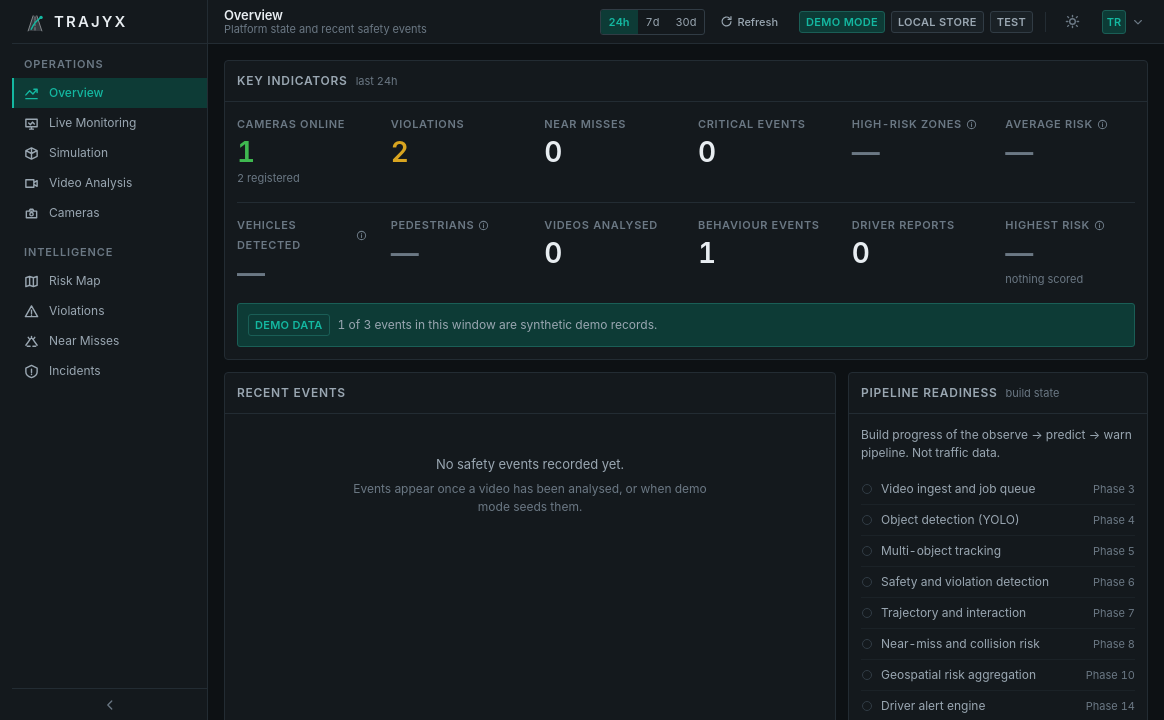
Test: profile menu › shows the signed-in identity and role
Step 1. Click the button with aria-label "account menu" → coordinates (1123, 22), box [1098, 8, 1148, 36]
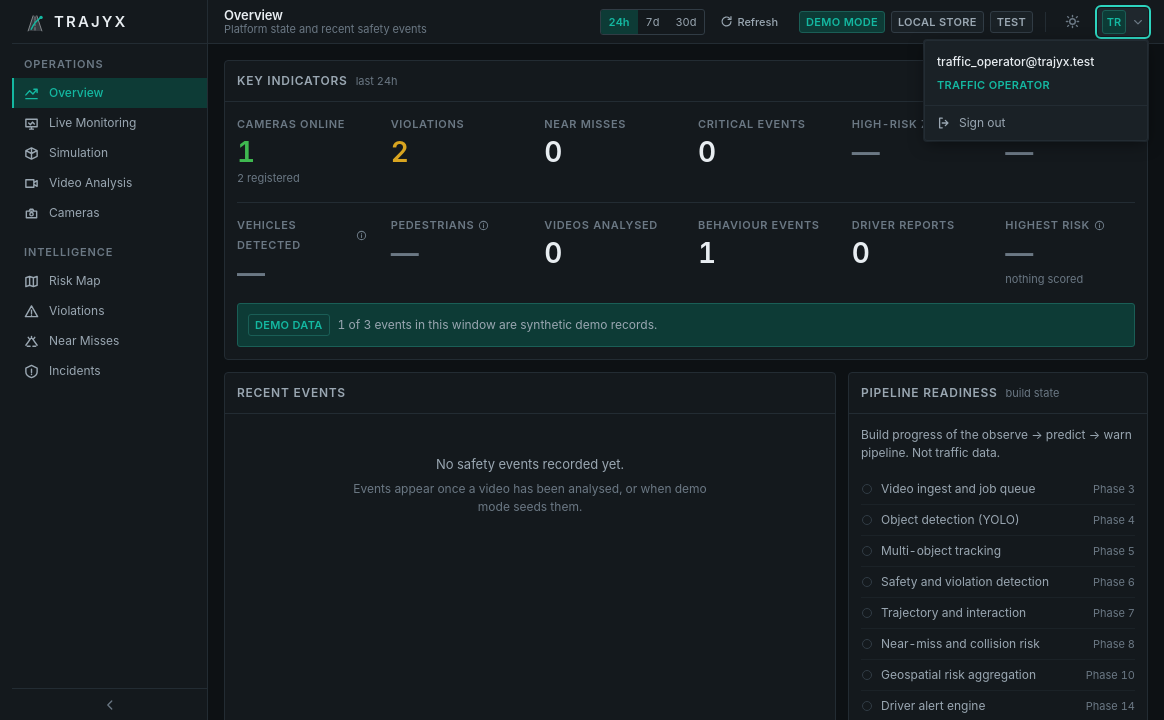
Check: the text "traffic_operator@trajyx.test" is shown, box [937, 54, 1094, 68]
Check: the text "Traffic operator" is shown, box [937, 78, 1050, 92]
